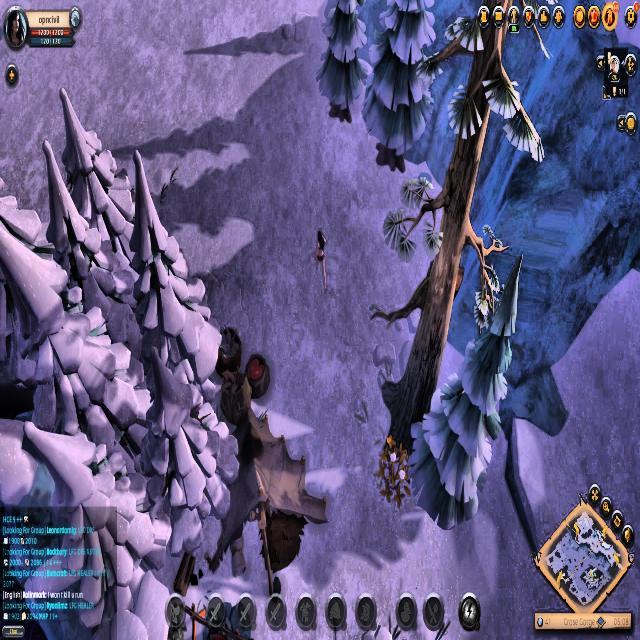cotton: (381, 449, 424, 511)
